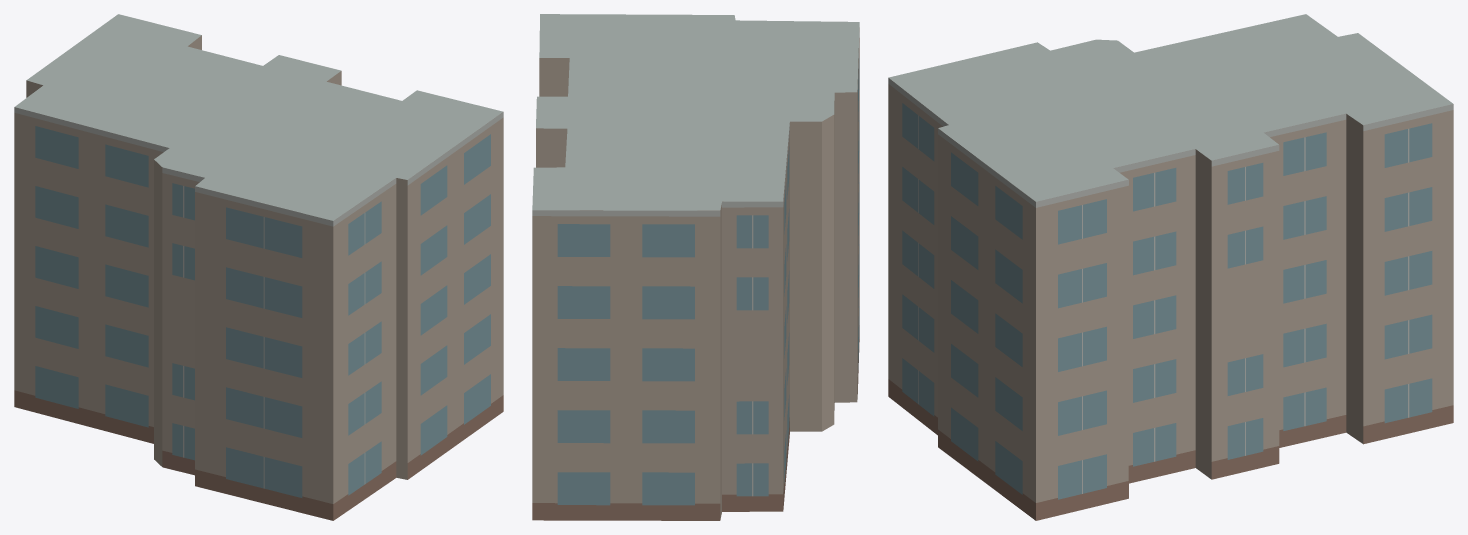
The model's file is survey-upis-32582380.glb.
3 views of the same model, side by side, from view 1: azimuth 30°, elevation 25°; view 2: azimuth 150°, elevation 25°; view 3: azimuth 270°, elevation 25° (orthographic). The views are drawn at different scales.
Parts seen in each view (by area): view 1: survey-upis-32582380.tmp; view 2: survey-upis-32582380.tmp; view 3: survey-upis-32582380.tmp.
Part boxes in pixels (bbox=[...]): survey-upis-32582380.tmp: bbox=[14, 14, 503, 520]; survey-upis-32582380.tmp: bbox=[532, 14, 859, 520]; survey-upis-32582380.tmp: bbox=[888, 14, 1453, 520].
Size of the model in its own units: 16.37 by 12.95 by 20.81.
